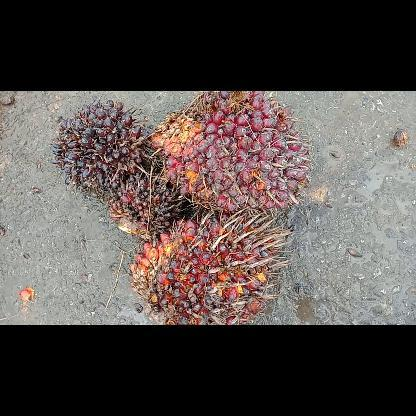TBS abnormal: (50, 97, 148, 191), (107, 172, 183, 242)
TBS masak: (150, 91, 316, 215), (126, 210, 296, 324)
